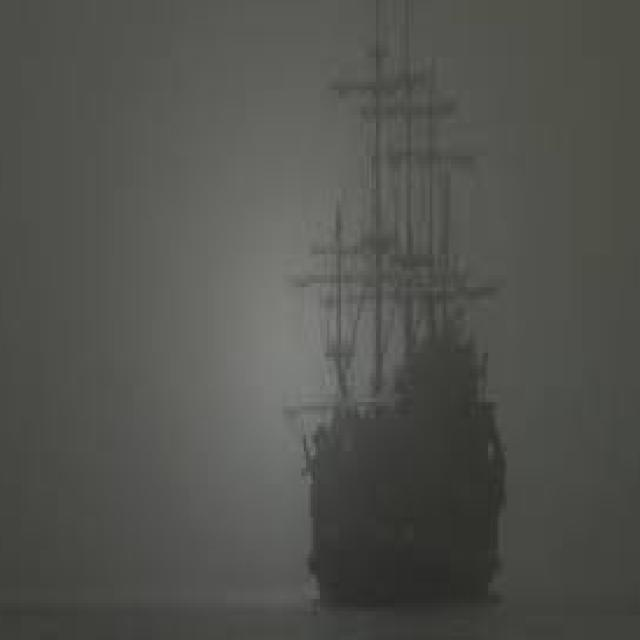fishing boat: (285, 0, 523, 624)
